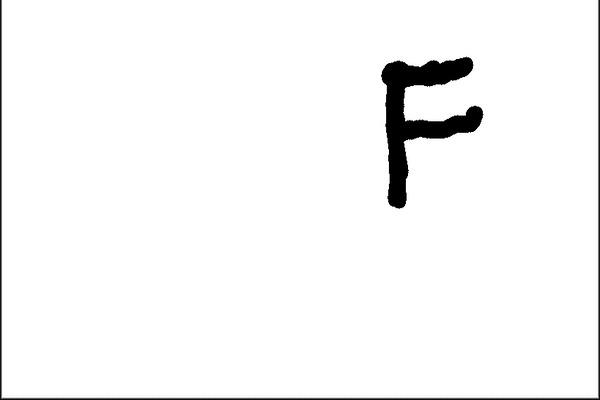F: (377, 51, 486, 211)
